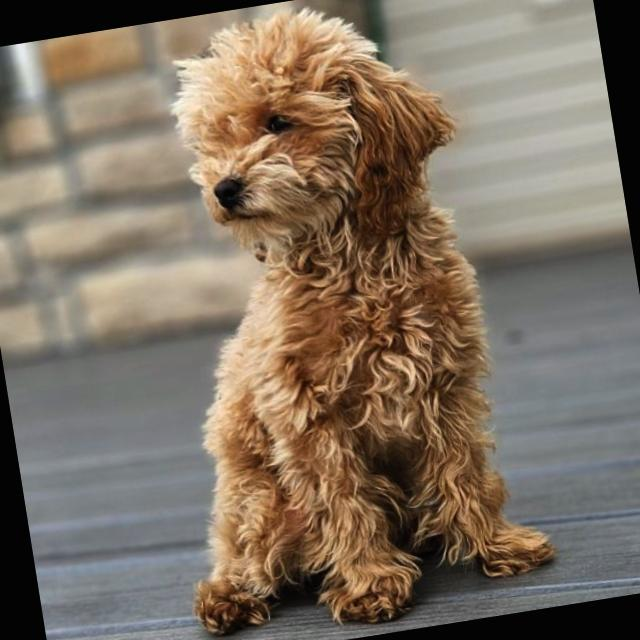Poodle_dog: (152, 0, 472, 282)
